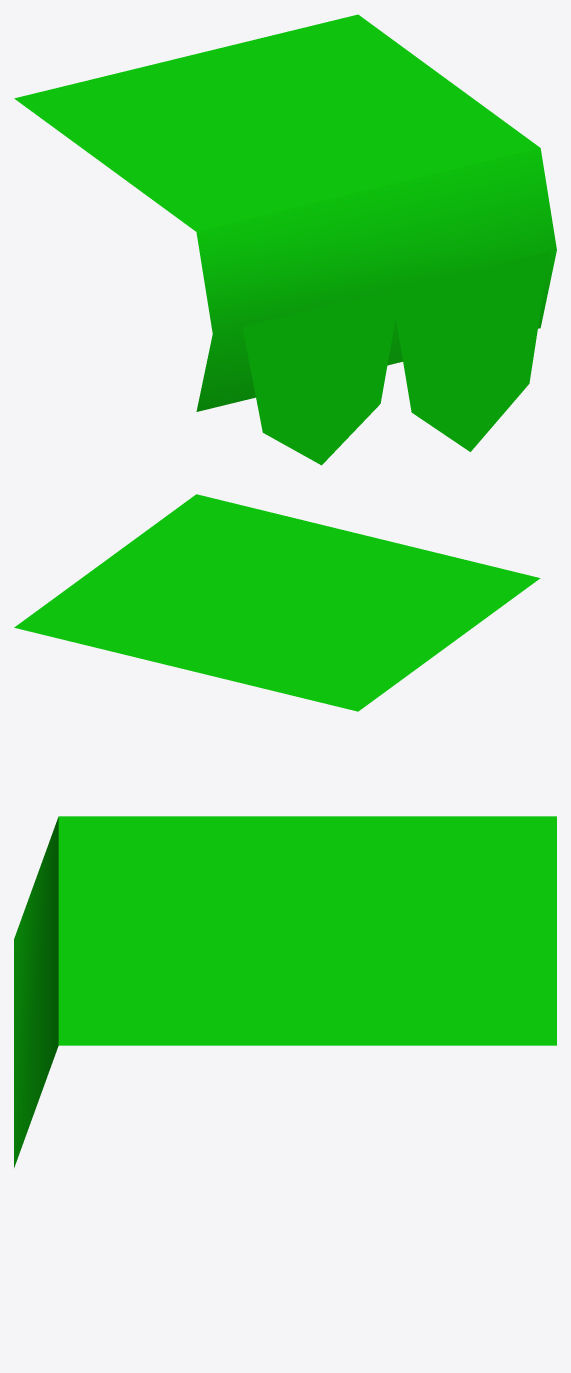
The model's file is Orthogonal_TopFloor_001.glb.
3 renders of one model, top to bottom at view 1: azimuth 30°, elevation 25°; view 2: azimuth 150°, elevation 25°; view 3: azimuth 270°, elevation 25°, orthographic. The views are drawn at different scales.
Parts seen in each view (by area): view 1: Orthogonal_TopFloor.001; view 2: Orthogonal_TopFloor.001; view 3: Orthogonal_TopFloor.001.
Part boxes in pixels (left/top/right/bottom): Orthogonal_TopFloor.001: left=14, top=14, right=556, bottom=465; Orthogonal_TopFloor.001: left=14, top=494, right=540, bottom=711; Orthogonal_TopFloor.001: left=14, top=816, right=556, bottom=1167.
Bounding box in the file's own units: 0.5 × 0.3764 × 0.5.
